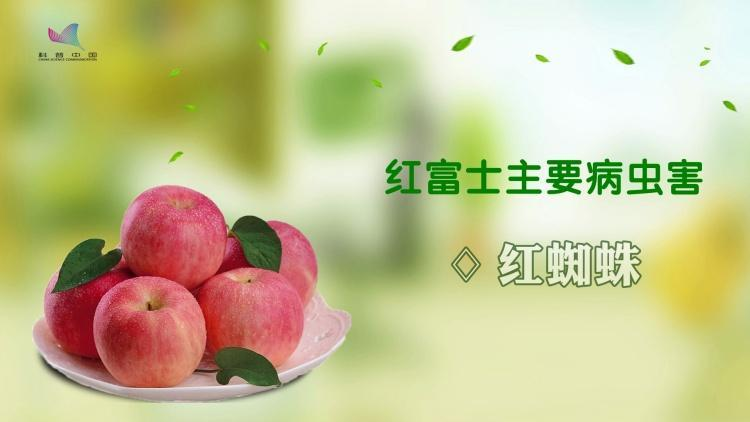apple: (94, 275, 203, 387), (120, 185, 226, 294), (196, 268, 305, 370), (45, 257, 134, 359), (218, 220, 317, 310)
